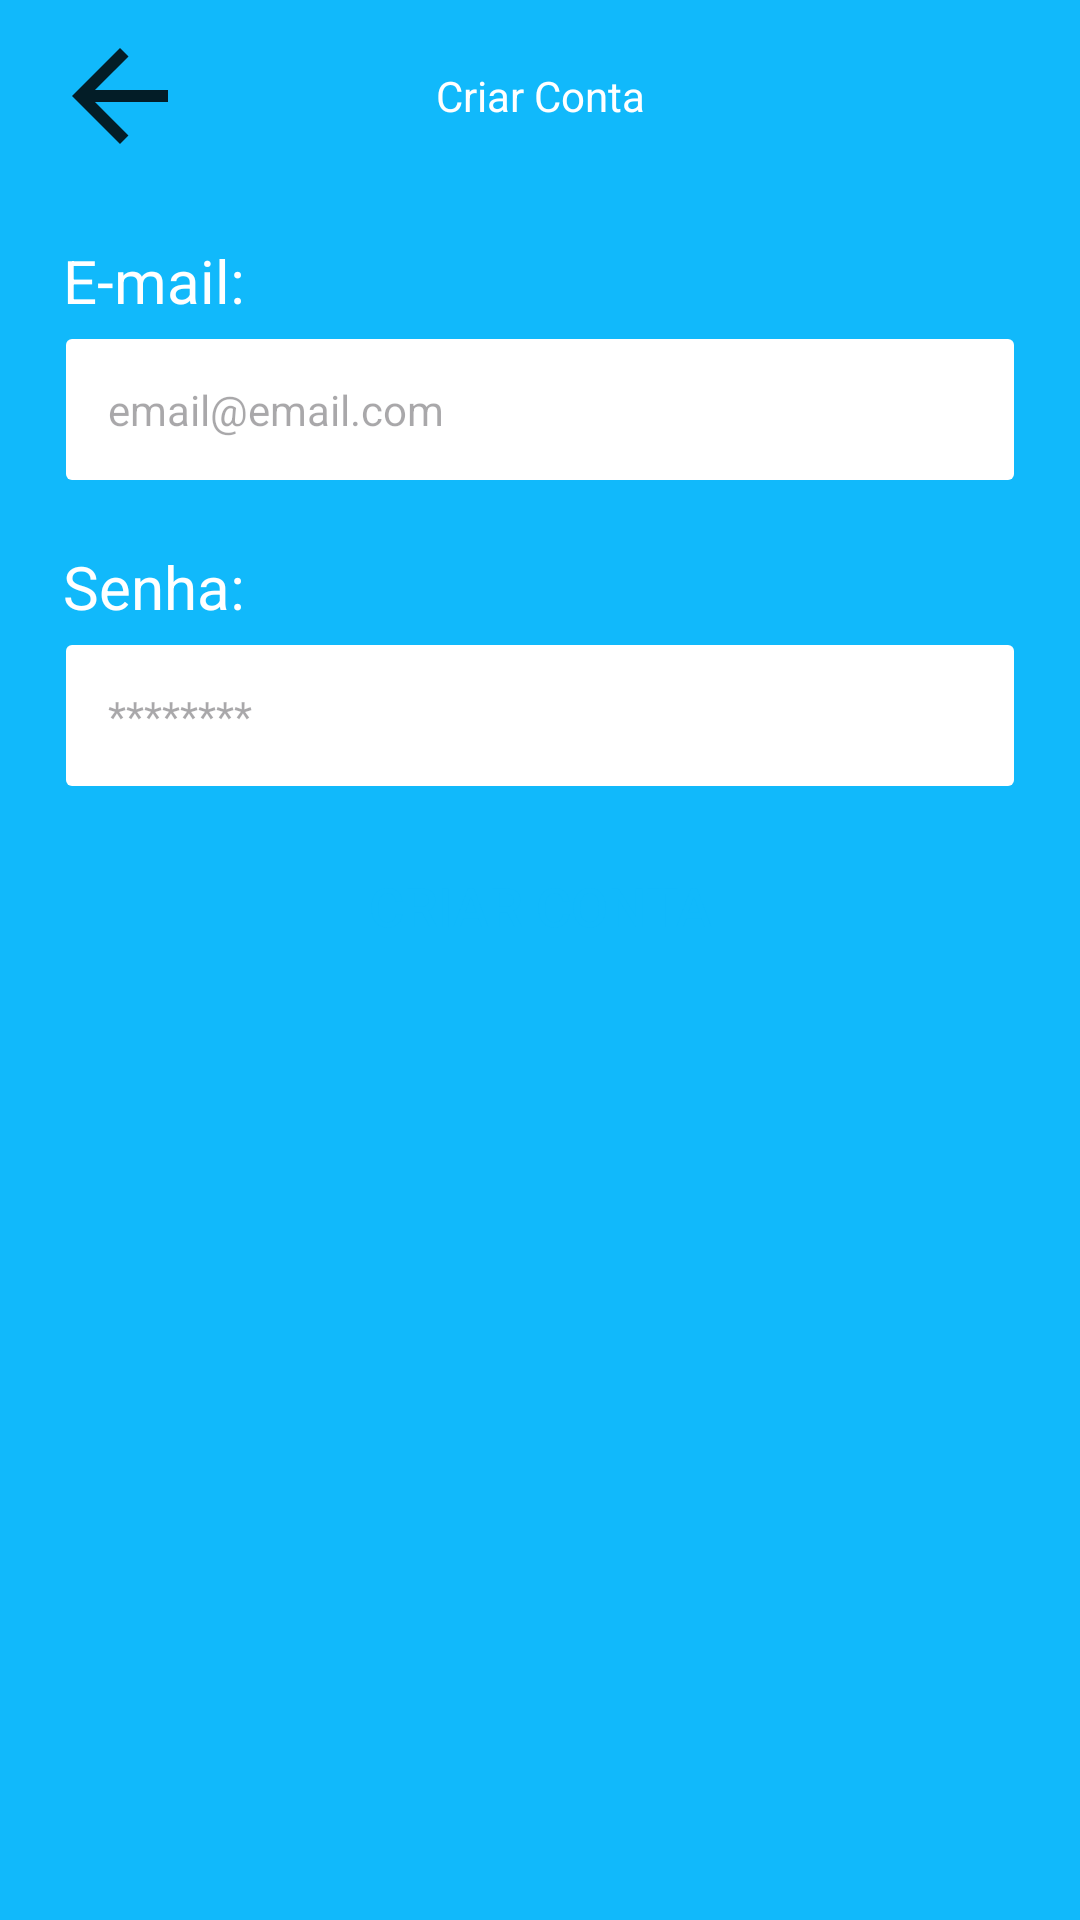

Icons on this 1080*1920 Android screen, each with its box as (x1, y1, x2, y2):
arrow back: (72, 48, 168, 144)
